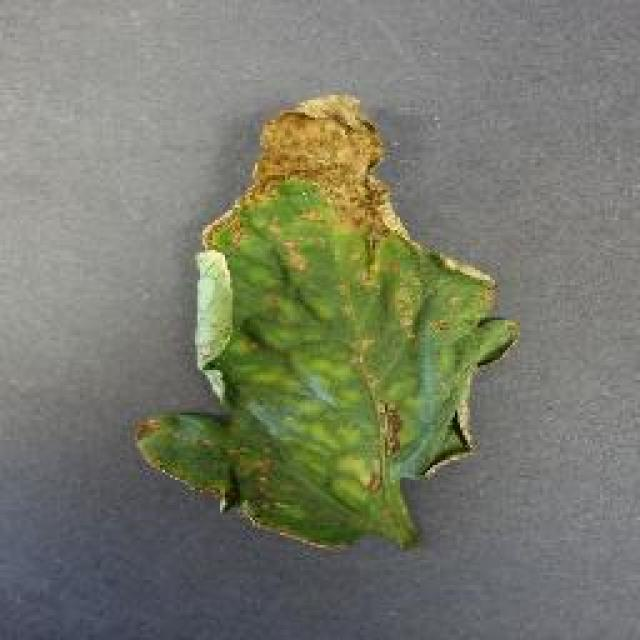Tomato___Bacterial_spot: (130, 95, 526, 558)
